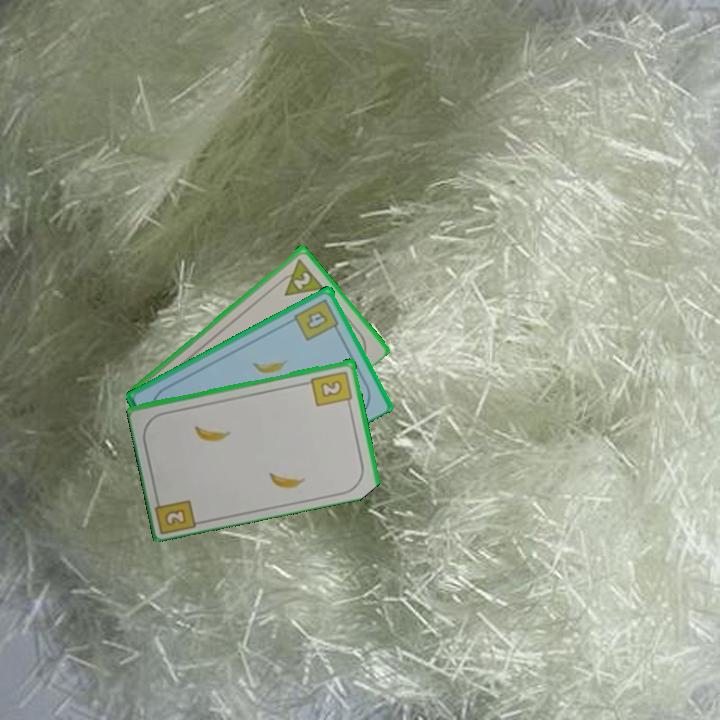2b: (308, 367, 355, 409), (161, 505, 190, 528)
2p: (273, 255, 326, 299)
4b: (291, 295, 343, 343)
